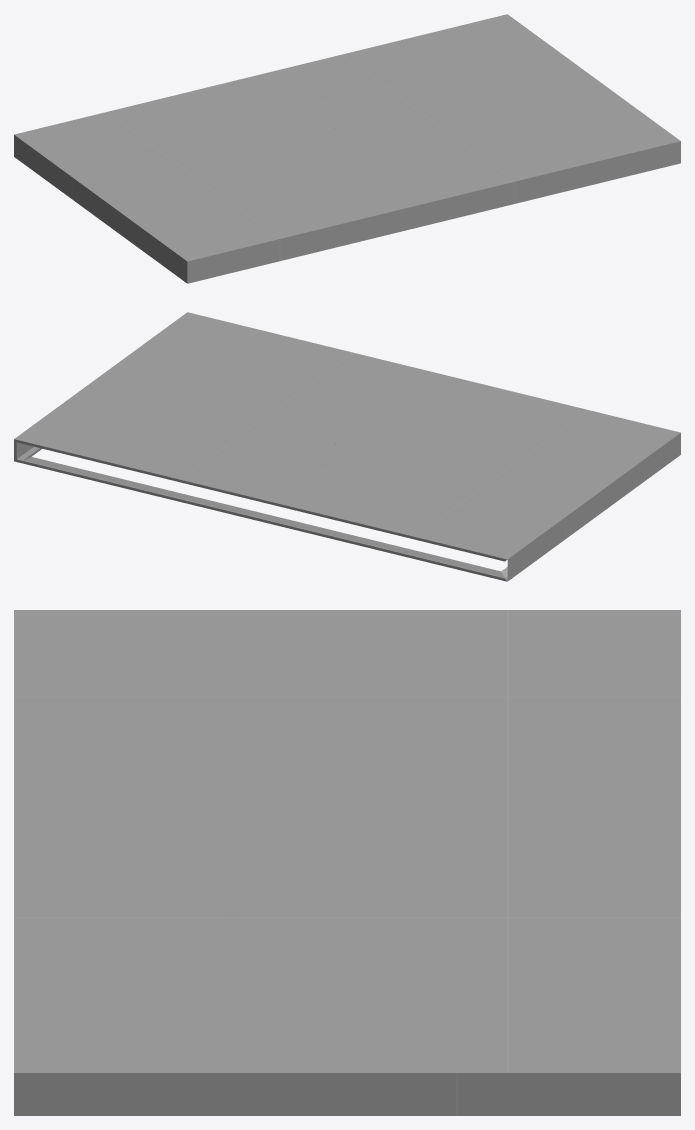
File: MeshTelevision_25_0_GeomSubset_1.obj
The picture shows the model from 3 angles, top to bottom: view 1: azimuth 30°, elevation 25°; view 2: azimuth 150°, elevation 25°; view 3: azimuth 270°, elevation 25°; orthographic projection. The views are drawn at different scales.
Parts seen in each view (by area): view 1: MeshTelevision_25_0_GeomSubset_1; view 2: MeshTelevision_25_0_GeomSubset_1; view 3: MeshTelevision_25_0_GeomSubset_1.
Part boxes in pixels (x1,y1,x2,y2): MeshTelevision_25_0_GeomSubset_1: (14, 14, 680, 283); MeshTelevision_25_0_GeomSubset_1: (14, 312, 680, 581); MeshTelevision_25_0_GeomSubset_1: (14, 610, 680, 1115).
Size of the model in its own units: 1.07 by 0.0471 by 0.6545.
